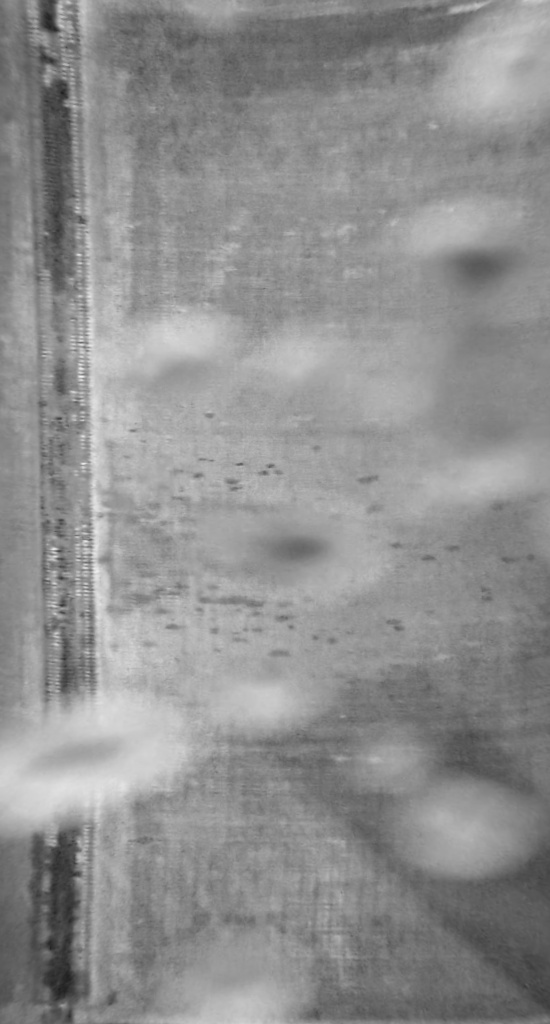splice: (12, 1, 115, 1023)
